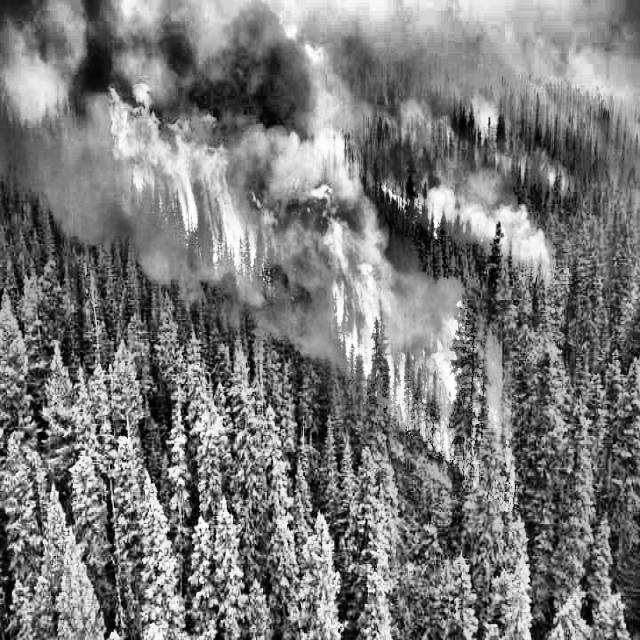fire: (94, 20, 561, 551)
